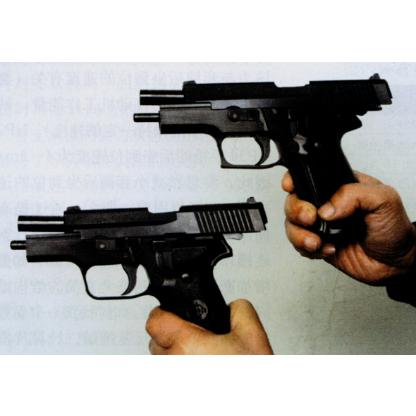gun: (130, 68, 396, 233), (8, 197, 278, 348)
